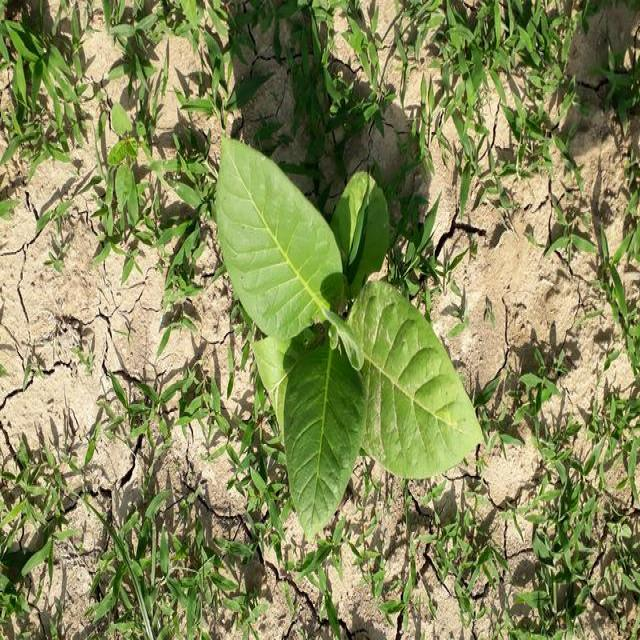crop: (220, 136, 484, 530)
